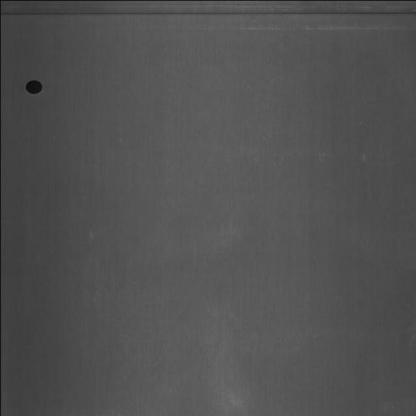punching_hole: (20, 73, 44, 97)
welding_line: (2, 2, 416, 28)
